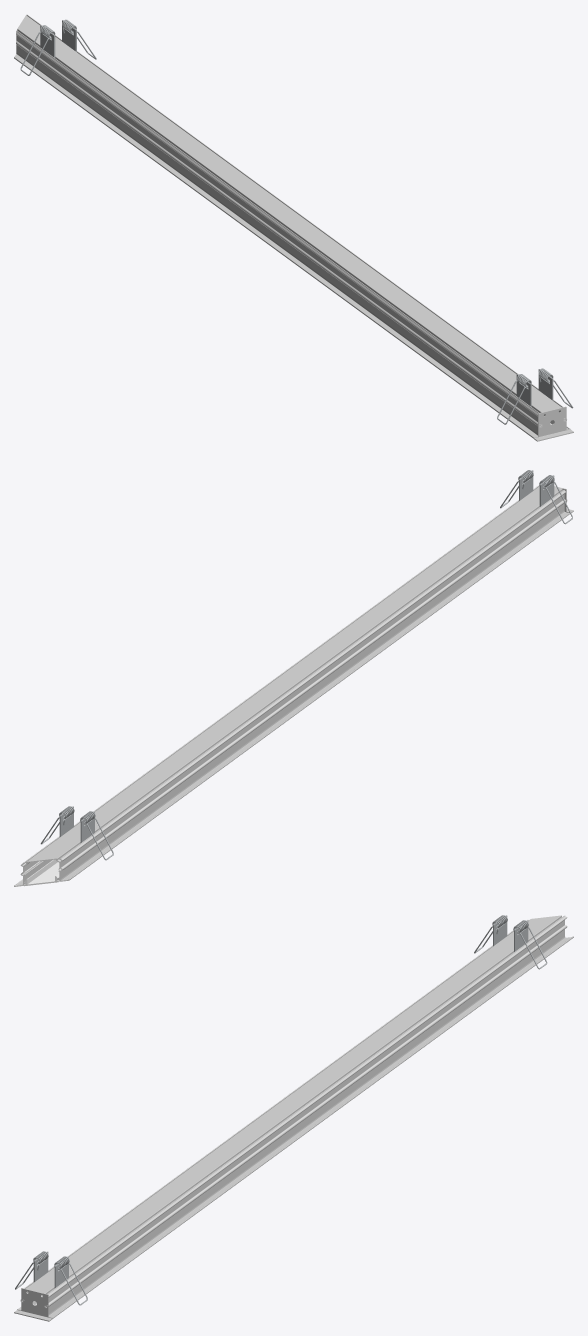
Rendered from Fit25StandardEmbutido-corte-45.glb.
3 views of the same model, one above another, from view 1: azimuth 30°, elevation 25°; view 2: azimuth 150°, elevation 25°; view 3: azimuth 330°, elevation 25° (orthographic). The views are drawn at different scales.
Parts seen in each view (by area): view 1: 3DGeom-1, 3DGeom-2; view 2: 3DGeom-1; view 3: 3DGeom-1, 3DGeom-2.
Part boxes in pixels (left/top/right/bottom): 3DGeom-1: left=14, top=14, right=569, bottom=438; 3DGeom-2: left=533, top=406, right=573, bottom=441; 3DGeom-1: left=14, top=485, right=569, bottom=886; 3DGeom-1: left=18, top=915, right=573, bottom=1318; 3DGeom-2: left=14, top=1288, right=52, bottom=1321.
Bounding box in the file's own units: 0.0731 × 0.0489 × 1.01.
Materials: 3 (1 with a texture image).
